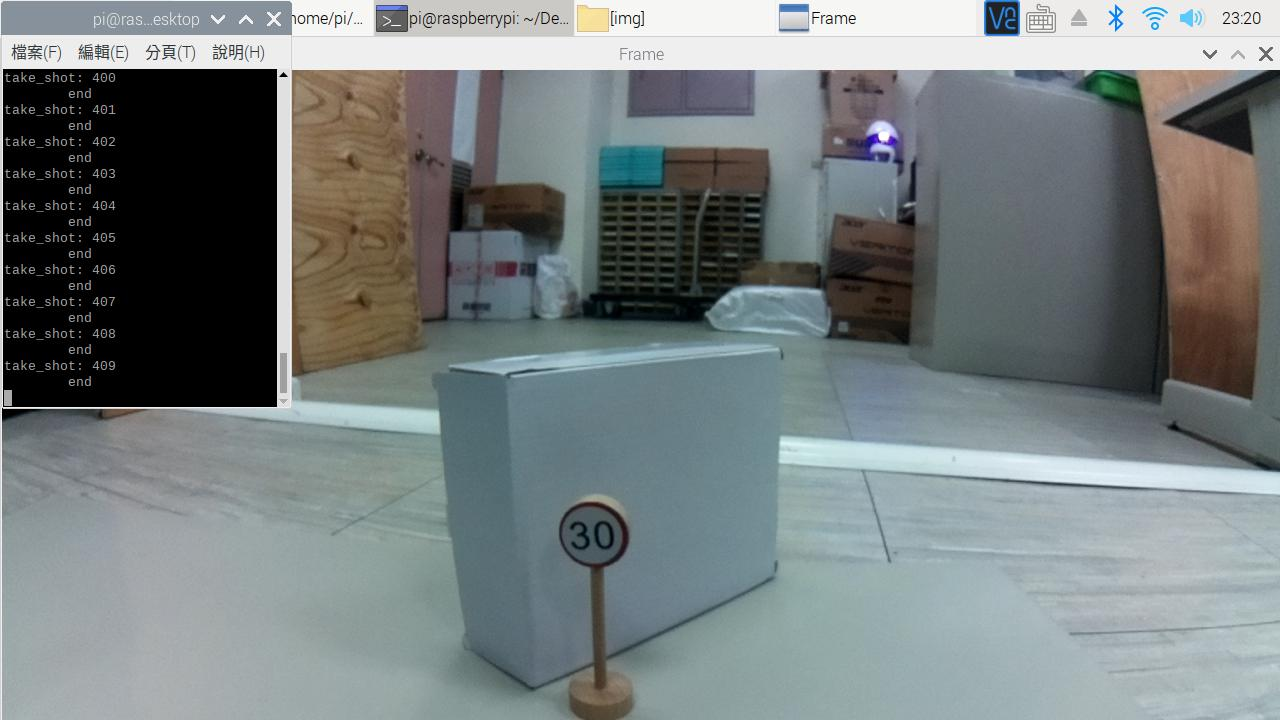Speed30: (545, 486, 658, 598)
